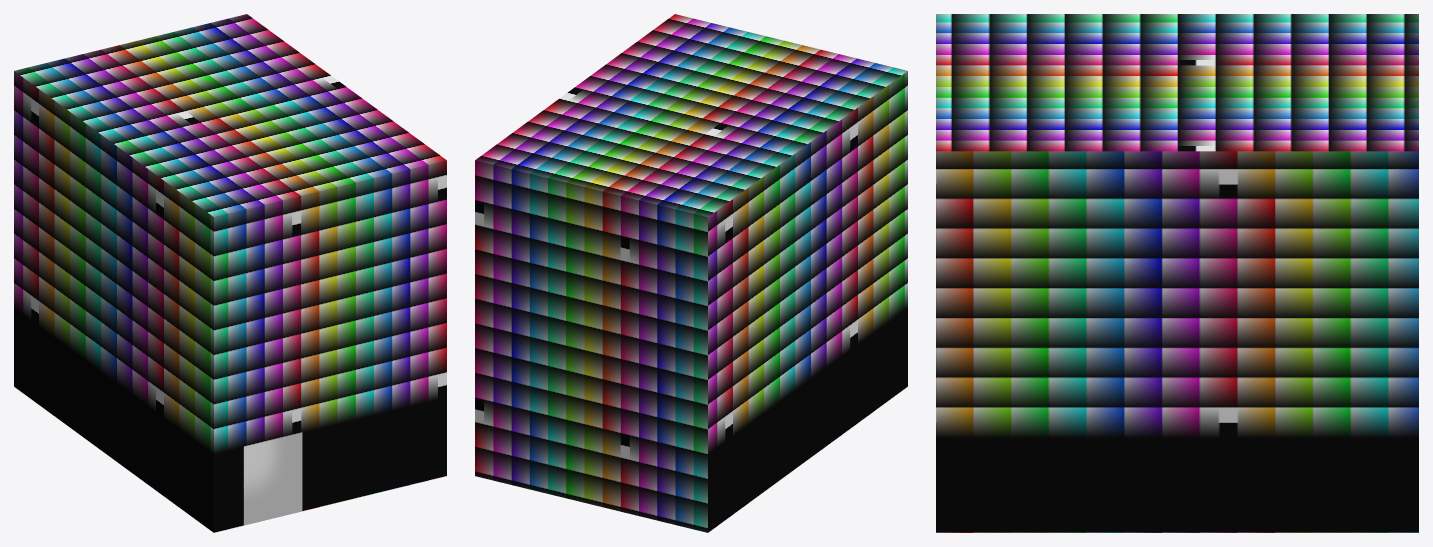
Rendered from door_1_whit.fbx.
3 renders of one model, left to right at view 1: azimuth 30°, elevation 25°; view 2: azimuth 150°, elevation 25°; view 3: azimuth 270°, elevation 25°, orthographic. The views are drawn at different scales.
Visible parts, largest first — view 1: door_1_trigger_whit; view 2: door_1_trigger_whit; view 3: door_1_trigger_whit.
Part boxes in pixels (box(x1,y1,x2,y2)): door_1_trigger_whit: box(14, 14, 446, 532); door_1_trigger_whit: box(475, 14, 907, 532); door_1_trigger_whit: box(936, 14, 1418, 532).
Size of what is drawn, in the model's own units: 232 by 300 by 344.
